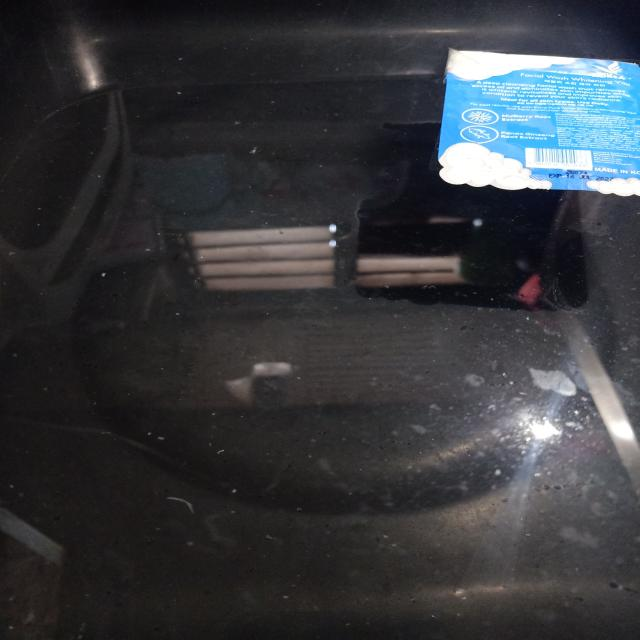Plastic Wrapper: (438, 49, 640, 195)
